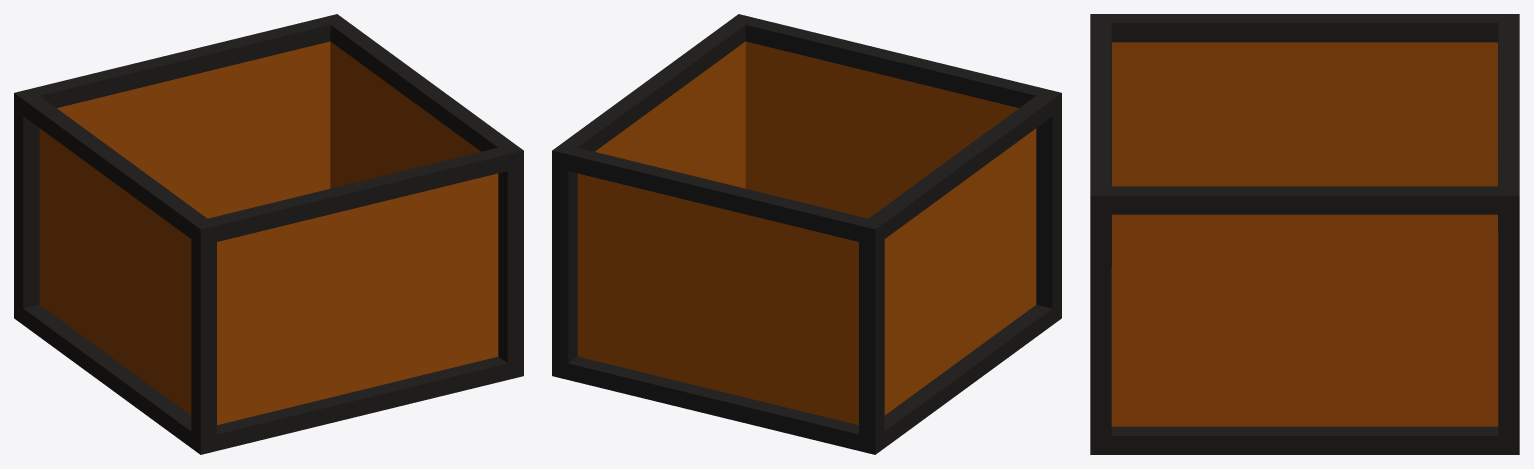
The model's file is bottom.glb.
3 renders of one model, left to right at view 1: azimuth 30°, elevation 25°; view 2: azimuth 150°, elevation 25°; view 3: azimuth 270°, elevation 25°, orthographic. The views are drawn at different scales.
Parts seen in each view (by area): view 1: Bottom; view 2: Bottom; view 3: Bottom.
Part boxes in pixels (x1,y1,x2,y2): Bottom: [14, 14, 523, 454]; Bottom: [552, 14, 1061, 454]; Bottom: [1090, 14, 1519, 454].
Bounding box in the file's own units: 6 × 4 × 6.
